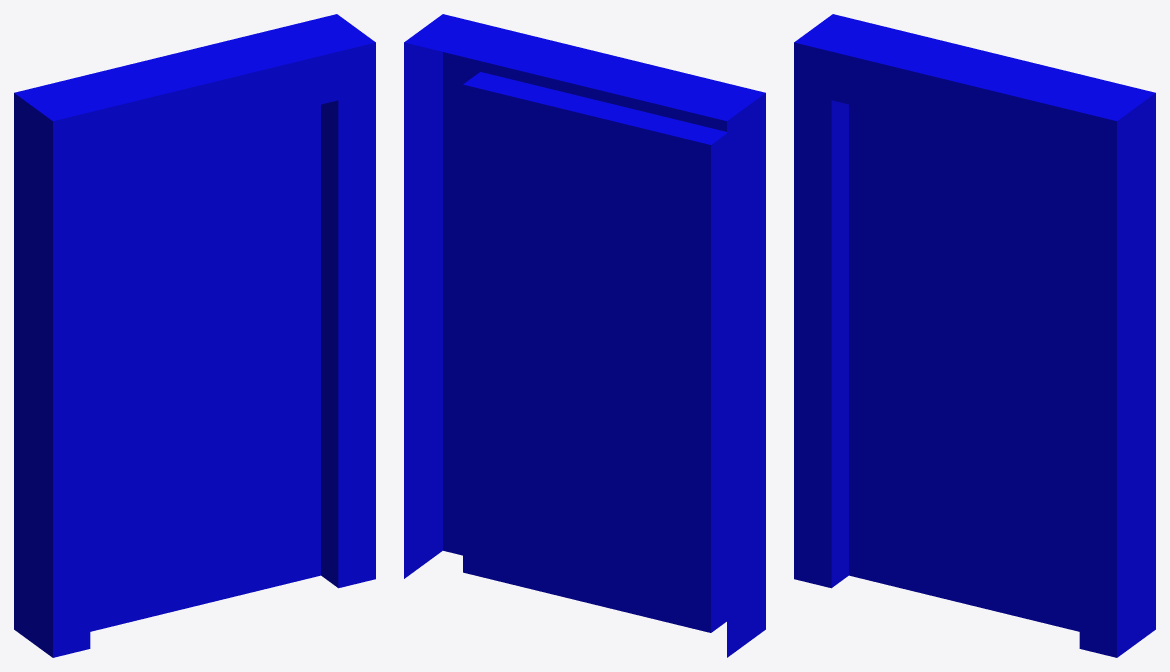
File: Sewer_Door.FBX
The picture shows the model from 3 angles, left to right: view 1: azimuth 30°, elevation 25°; view 2: azimuth 150°, elevation 25°; view 3: azimuth 330°, elevation 25°; orthographic projection.
Parts seen in each view (by area): view 1: Sewer_Door; view 2: Sewer_Door; view 3: Sewer_Door.
Boxes of the visible parts, bbox=[...] form: Sewer_Door: bbox=[14, 14, 375, 657]; Sewer_Door: bbox=[404, 14, 765, 657]; Sewer_Door: bbox=[794, 14, 1155, 657].
Size of the model in its own units: 95.05 by 151 by 19.81.
